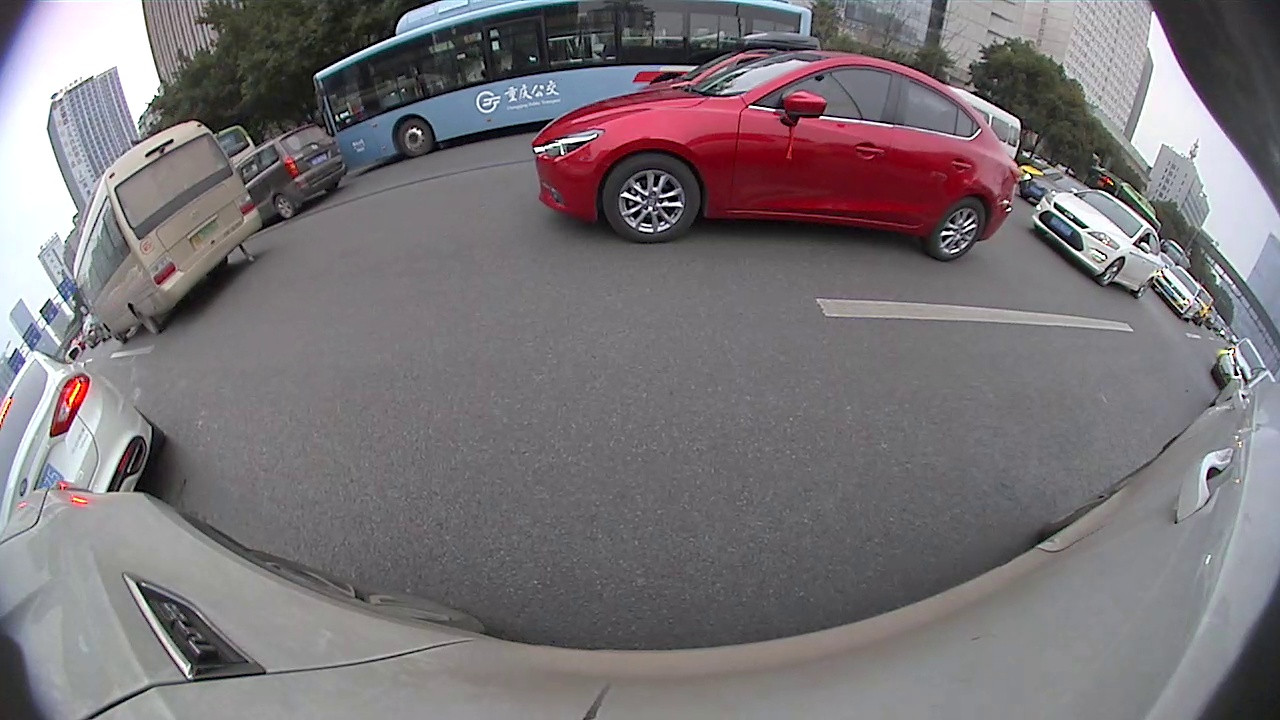bus: (314, 2, 805, 163), (73, 122, 261, 345)
car: (528, 50, 1013, 263), (1, 351, 167, 535), (1029, 188, 1157, 298), (238, 124, 346, 222)
front: (602, 151, 704, 244), (396, 112, 432, 159), (1098, 256, 1127, 288)
rear: (931, 195, 988, 260), (130, 304, 161, 335), (274, 192, 297, 220), (1136, 277, 1154, 298)
